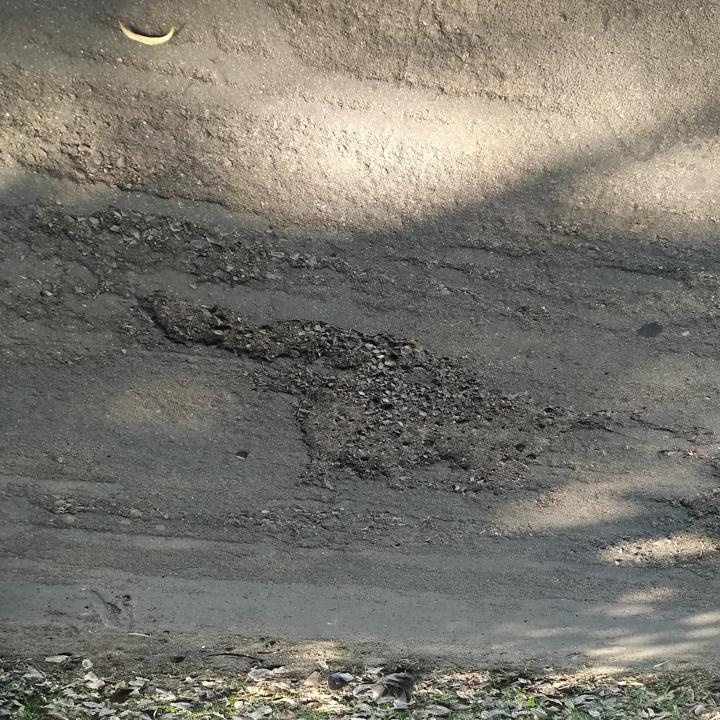pothole: (136, 285, 624, 498), (674, 483, 719, 526)
